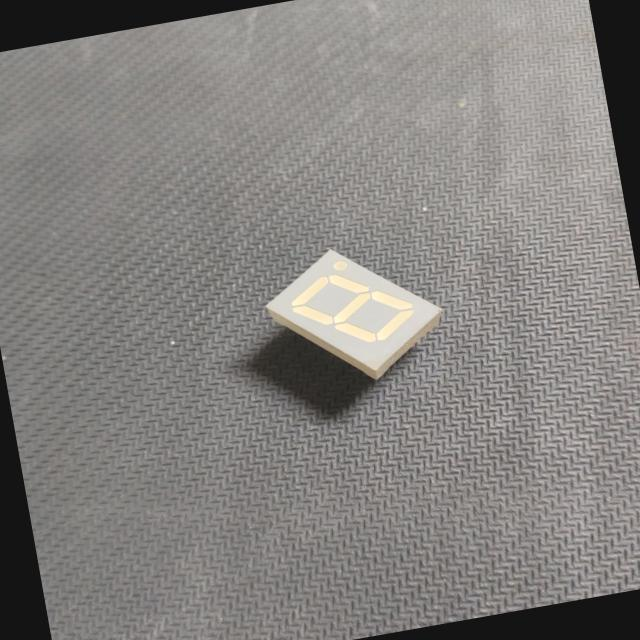sevensegment: (235, 220, 469, 415)
